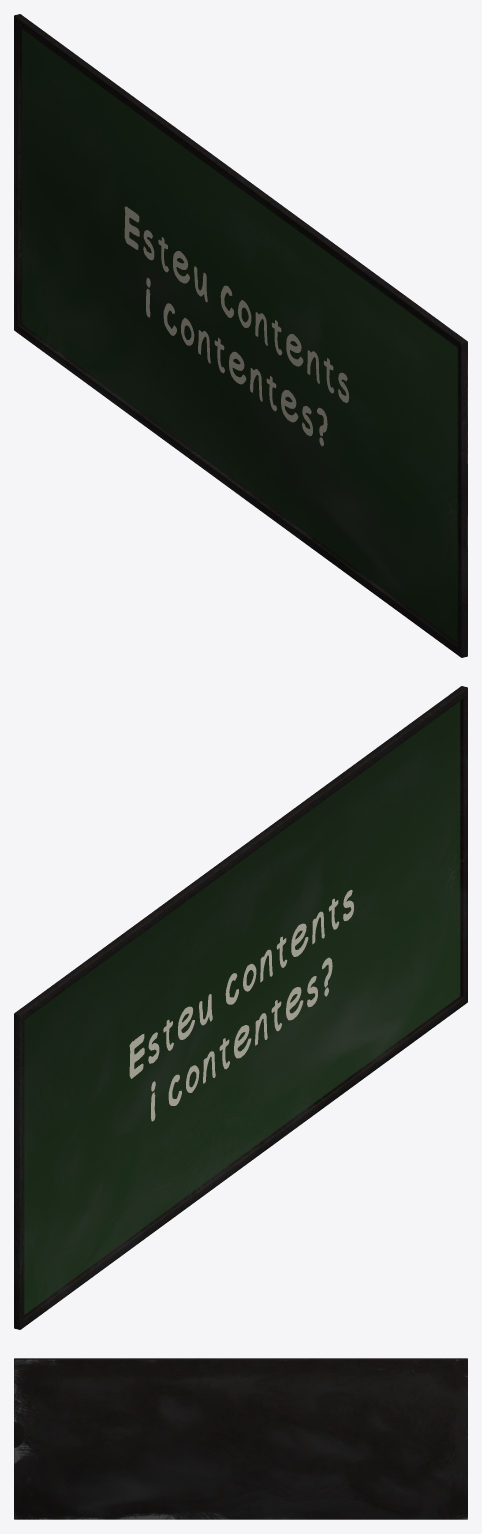
The model's file is pizarra.obj.
The picture shows the model from 3 angles, top to bottom: view 1: azimuth 30°, elevation 25°; view 2: azimuth 150°, elevation 25°; view 3: azimuth 270°, elevation 25°; orthographic projection. The views are drawn at different scales.
Parts seen in each view (by area): view 1: board_Material.005_0, Texto; view 2: board_Material.005_0, Texto; view 3: board_Material.005_0.
Part boxes in pixels (x1,y1,x2,y2): board_Material.005_0: (14, 14, 467, 657); Texto: (124, 206, 349, 446); board_Material.005_0: (14, 686, 467, 1329); Texto: (129, 890, 353, 1121); board_Material.005_0: (14, 1358, 467, 1519).
Size of the model in its own units: 0.0228 by 1 by 2.57.
Materials: 2 (1 with a texture image).
